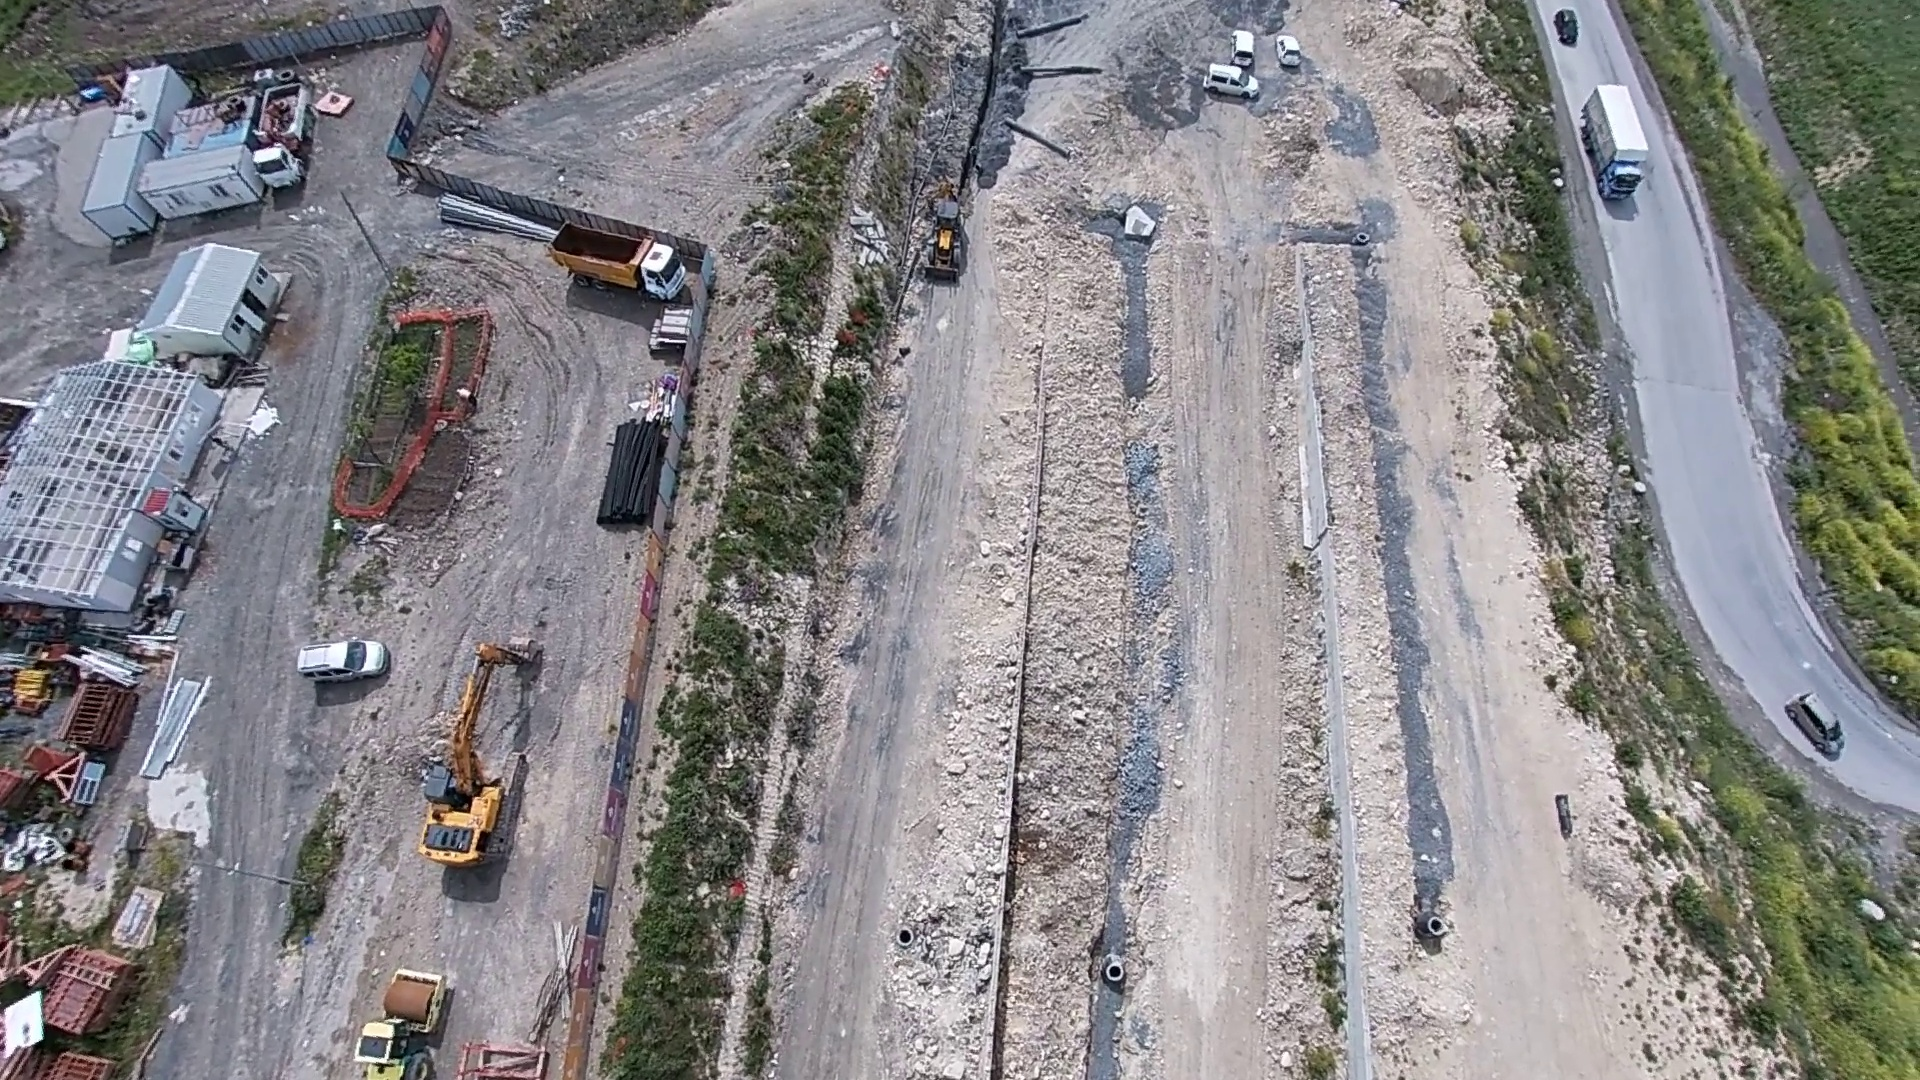araba: (291, 618, 396, 695), (1778, 676, 1861, 766), (1195, 63, 1269, 103), (1228, 26, 1261, 73), (1552, 7, 1585, 45), (1274, 34, 1305, 70)
ismakinesi: (407, 632, 554, 870)
kamyon: (550, 214, 694, 306), (1575, 78, 1652, 212)
kamyonet: (252, 79, 315, 195)
traktor: (340, 957, 458, 1080), (913, 181, 980, 290)
